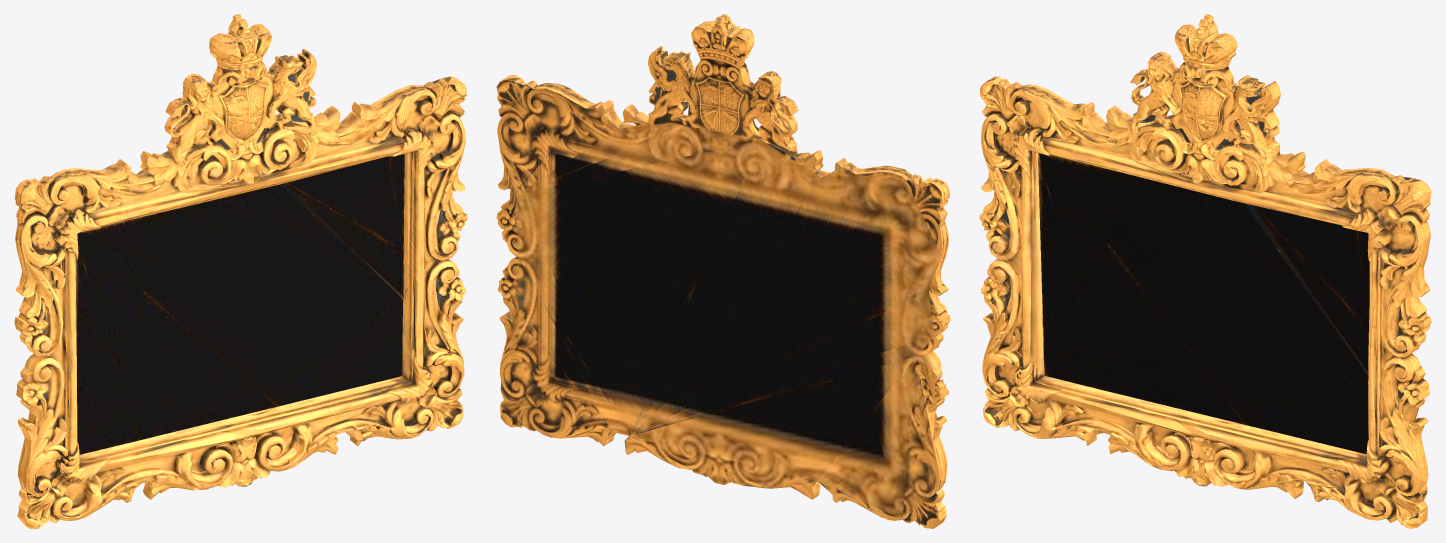
Rendered from sp_m_signframe.glb.
3 renders of one model, left to right at view 1: azimuth 30°, elevation 25°; view 2: azimuth 150°, elevation 25°; view 3: azimuth 330°, elevation 25°, orthographic.
Parts seen in each view (by area): view 1: Mesh_0; view 2: Mesh_0; view 3: Mesh_0.
Part boxes in pixels (box(x1,y1,x2,y2)): Mesh_0: box(14, 14, 467, 528); Mesh_0: box(496, 14, 950, 528); Mesh_0: box(979, 14, 1431, 528).
Size of the model in its own units: 1.9 by 1.9 by 0.1221.
1 material, 1 textured.
